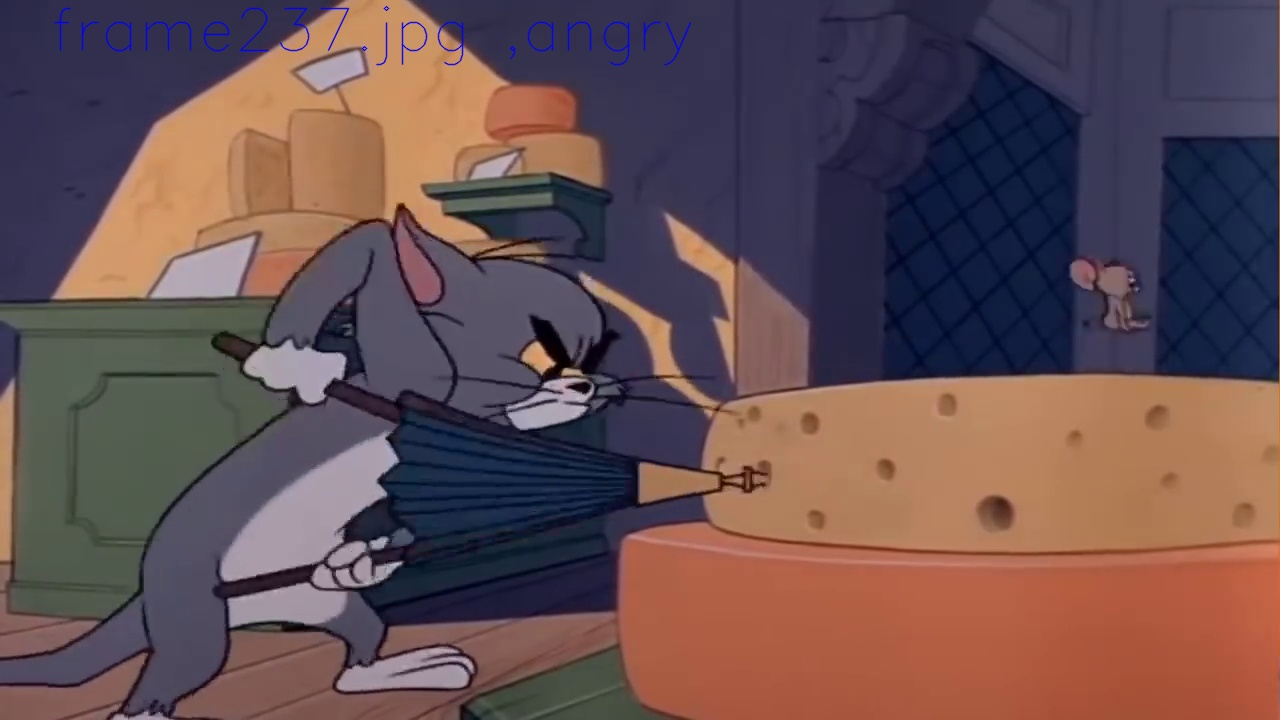angry: (521, 314, 620, 420)
